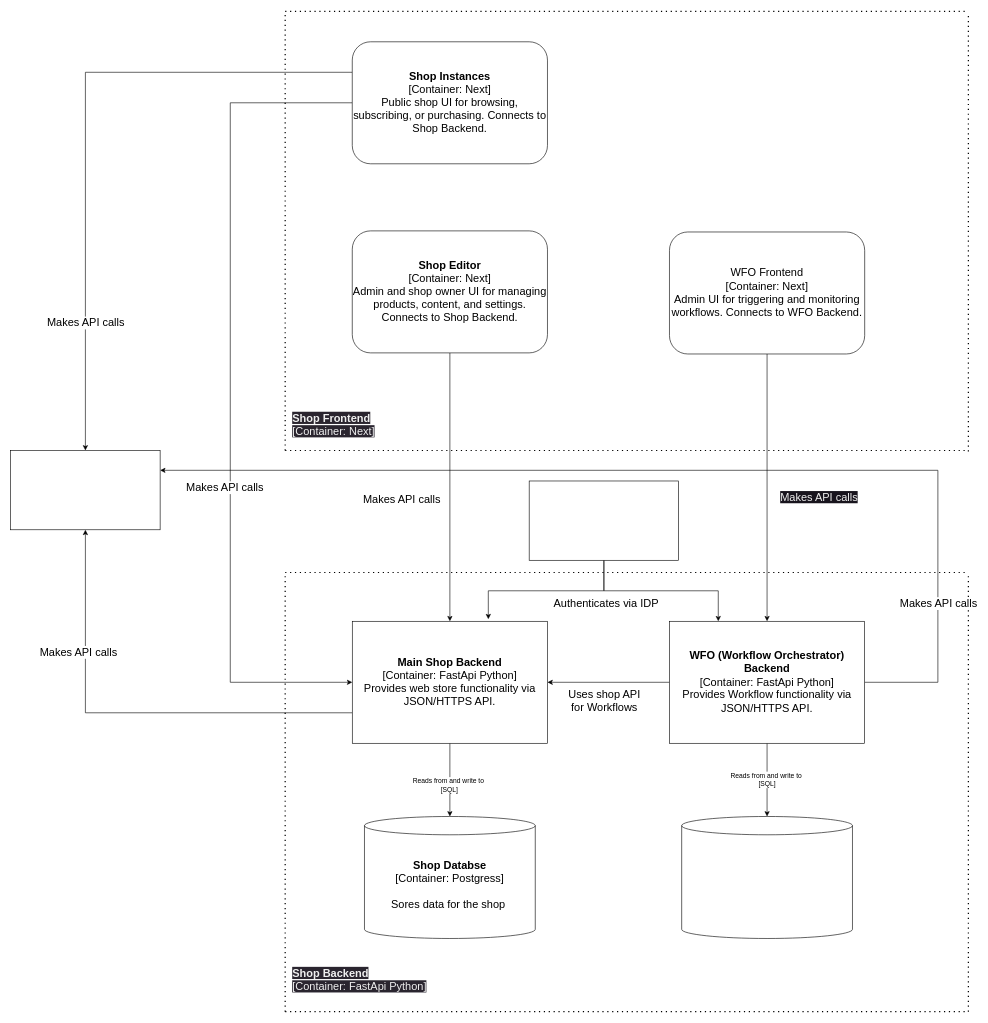
Some shapes in this 988 by 1023 pixel diagram are drawn without their labels. Here are the shapes that lost their labels. From the top down, the box of each, then its label:
(10, 450, 160, 530): Help Desk System [External System] External API
(529, 480, 679, 560): AWS Cognito [Identity Provider] OAuth2 / JWT / SSO
(681, 816, 852, 938): WFO Databse [Container: Postgress] Sores data for the WFO
